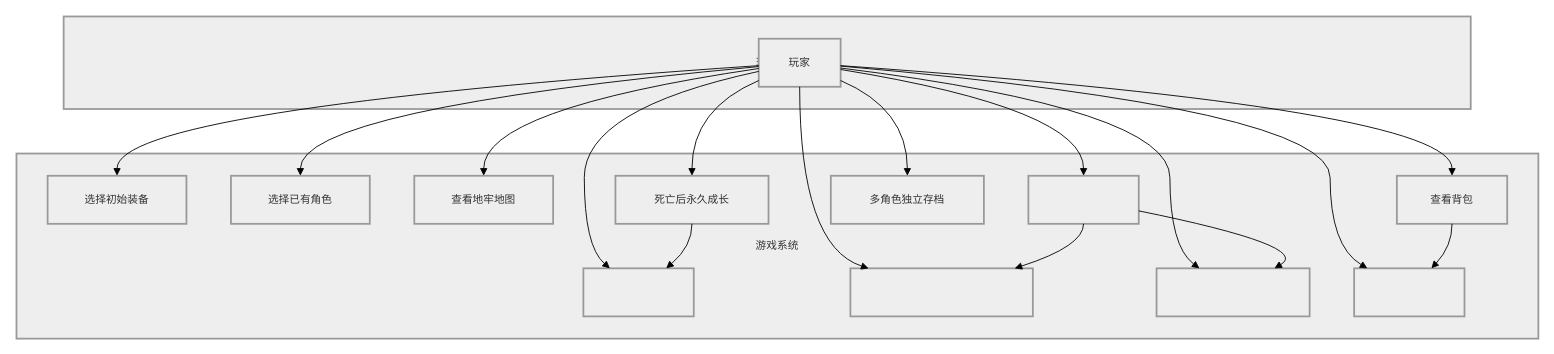
This 1554x354 diagram has some shape labels left out. Each missing label, with the centre of its shape:
创建角色: point 638,292
移动/攻击/使用道具: point 941,292
管理装备: point 1409,292
进入战斗: point 1083,199
选择战斗后奖励: point 1232,292
